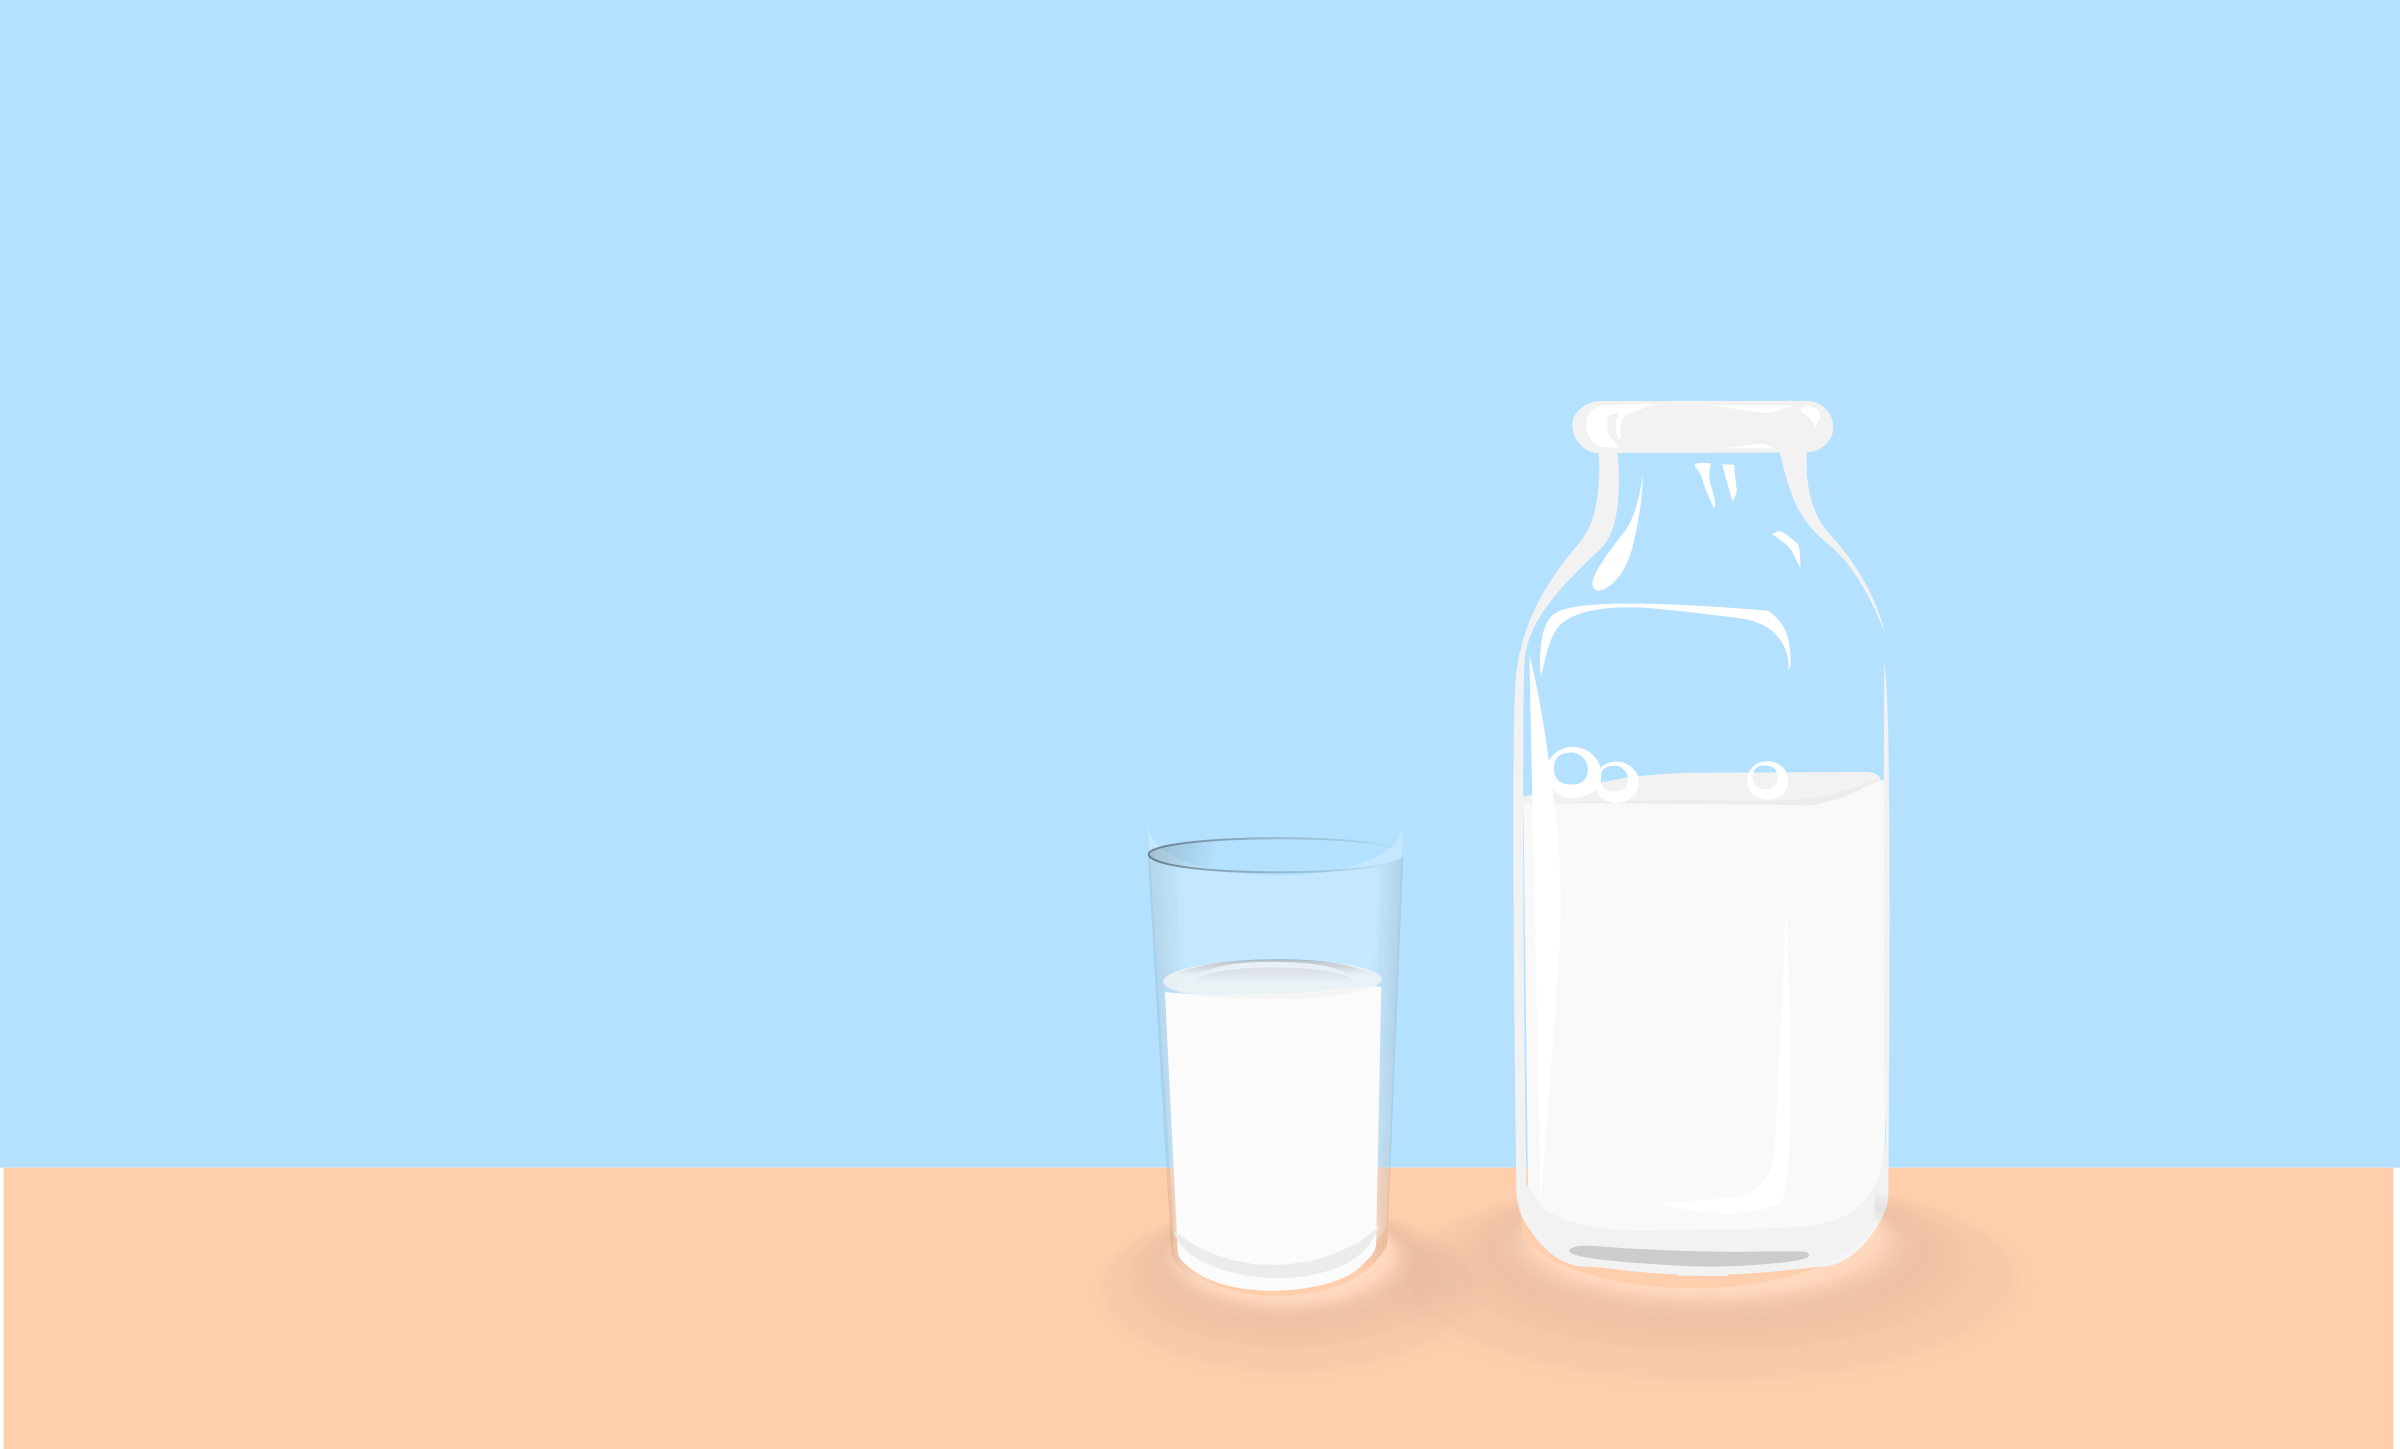glass of milk: (1149, 830, 1413, 1312)
